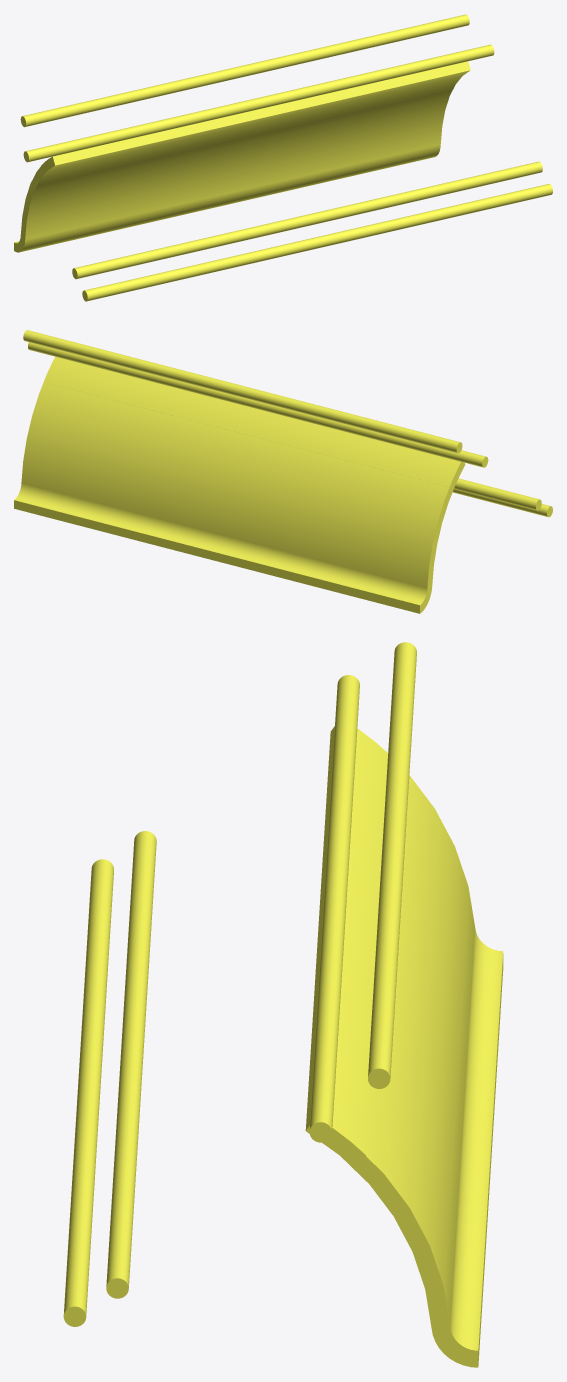
3 views of the same model, one above another, from view 1: azimuth 30°, elevation 25°; view 2: azimuth 150°, elevation 25°; view 3: azimuth 270°, elevation 25° (orthographic). The views are drawn at different scales.
Parts seen in each view (by area): view 1: id26, id11, id6, id16, id21, id31, id51, id36; view 2: id26, id36, id41, id46, id6, id51, id31; view 3: id26, id36, id31, id6, id11, id51, id16, id41, id46, id21.
Part boxes in pixels (x1,y1,x2,y2): id26: [14, 61, 470, 252]; id11: [23, 44, 494, 162]; id6: [20, 14, 469, 126]; id16: [72, 162, 542, 279]; id21: [82, 186, 552, 301]; id31: [82, 184, 552, 299]; id51: [72, 161, 540, 278]; id36: [41, 76, 462, 171]; id26: [14, 373, 463, 613]; id36: [43, 357, 465, 487]; id41: [28, 342, 488, 467]; id46: [23, 333, 461, 452]; id6: [24, 330, 462, 453]; id51: [454, 478, 541, 510]; id31: [453, 489, 552, 516]; id26: [305, 726, 503, 1367]; id36: [306, 728, 387, 1166]; id31: [63, 859, 113, 1326]; id6: [368, 642, 412, 1088]; id11: [309, 675, 354, 1142]; id51: [106, 831, 156, 1298]; id16: [106, 831, 145, 1298]; id41: [310, 677, 359, 1142]; id46: [369, 645, 416, 1088]; id21: [63, 861, 97, 1326].
Size of the model in its own units: 0.7188 by 0.232 by 0.2966.
